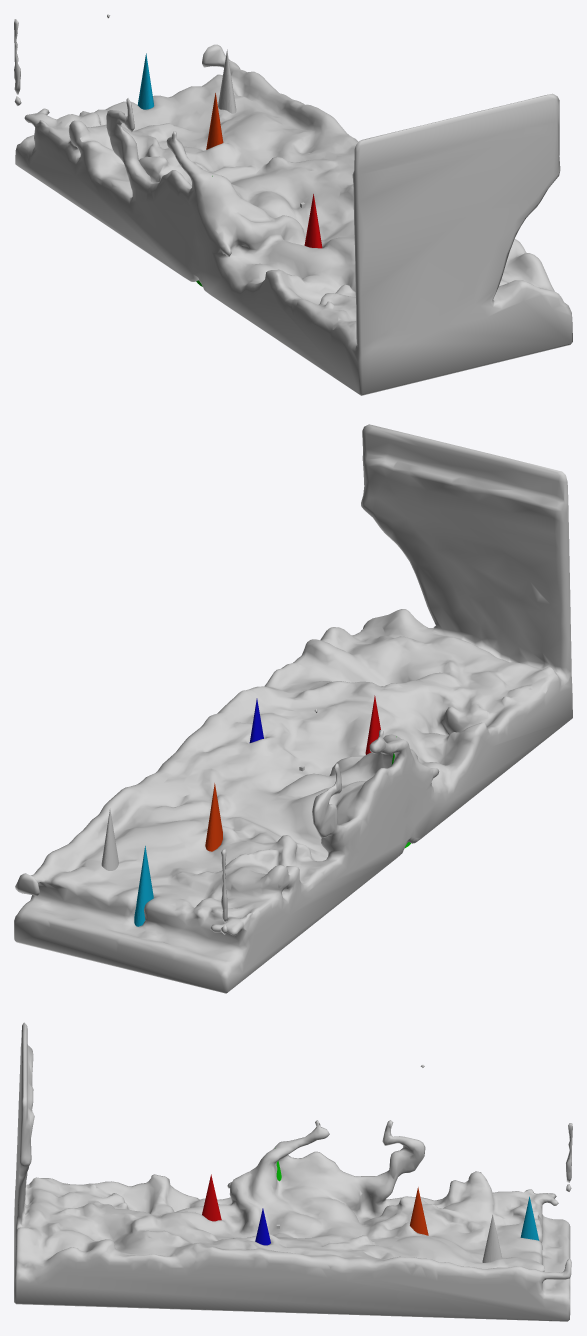
3 renders of one model, top to bottom at view 1: azimuth 30°, elevation 25°; view 2: azimuth 150°, elevation 25°; view 3: azimuth 270°, elevation 25°, orthographic. The views are drawn at different scales.
Parts seen in each view (by area): view 1: Liquid_Domain, 円錐, 円錐.001, 円錐.005, 円錐.004; view 2: Liquid_Domain, 円錐.005, 円錐.004; view 3: Liquid_Domain, 円錐, 円錐.001, 円錐.004, 円錐.005.
Boxes of the visible parts, <box> form: Liquid_Domain: <box>14,14,572,395</box>; 円錐: <box>218,49,236,113</box>; 円錐.001: <box>304,194,322,248</box>; 円錐.005: <box>137,53,153,109</box>; 円錐.004: <box>206,93,223,149</box>; Liquid_Domain: <box>14,424,572,993</box>; 円錐.005: <box>134,846,153,926</box>; 円錐.004: <box>205,783,222,851</box>; Liquid_Domain: <box>14,1022,572,1321</box>; 円錐: <box>482,1214,502,1262</box>; 円錐.001: <box>202,1174,221,1221</box>; 円錐.004: <box>410,1187,428,1235</box>; 円錐.005: <box>520,1196,539,1240</box>.
Size of the model in its own units: 129 by 158 by 363.
